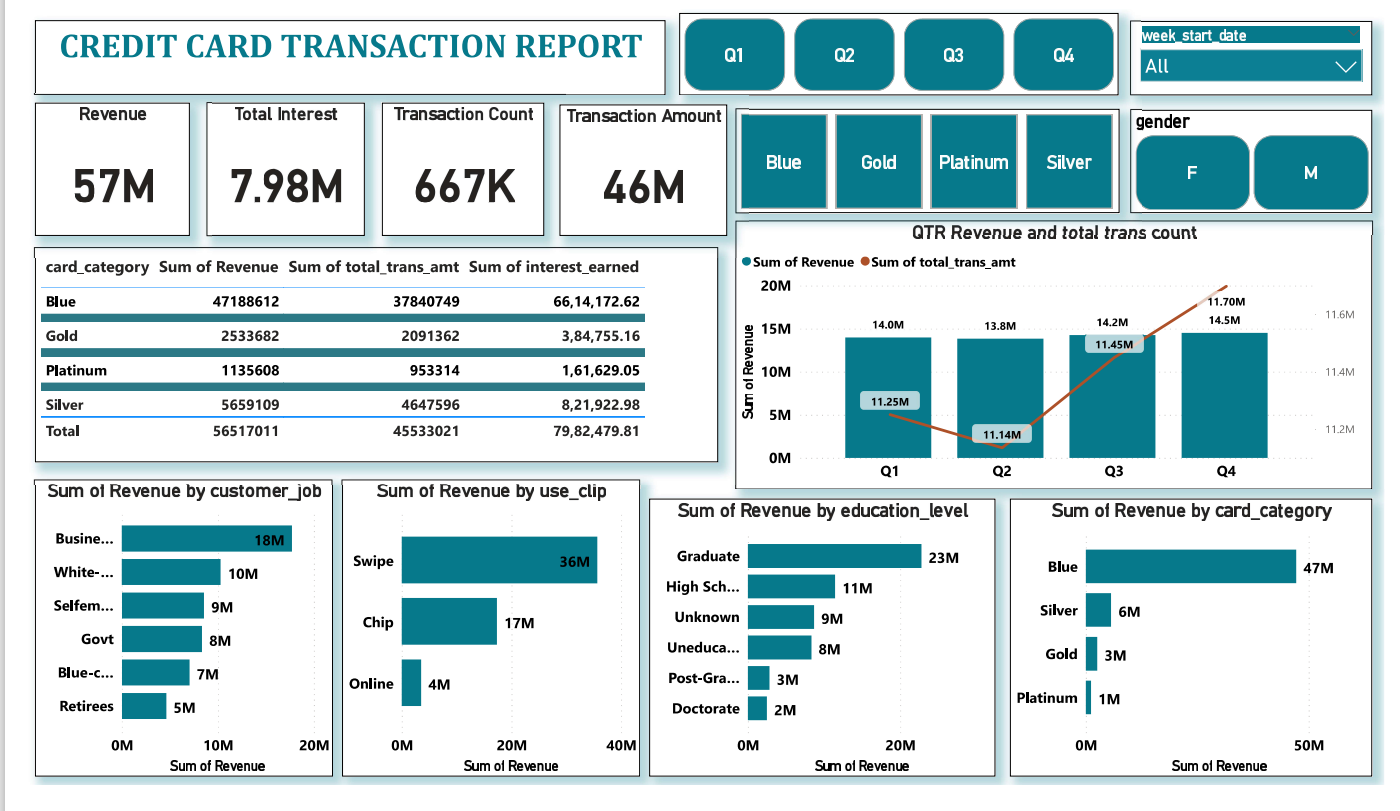

What the dashboard file says about the page in this screenshot:
{"tool":"powerbi","page":{"name":"credit card report","canvas":[1446,823],"ordinal":1},"visuals":[{"type":"textbox","box":[11,12.4,696.2,82.7],"z":0},{"type":"lineStackedColumnComboChart","title":"QTR Revenue and  total trans count","fields":{"Category":["public credit_detail.qtr"],"Y":["Sum(public credit_detail.Revenue)"],"Y2":["Sum(public credit_detail.total_trans_amt)"]},"box":[784.4,233,642.4,296.4],"z":1000},{"type":"barChart","fields":{"Category":["public cust_detail.customer_job"],"Y":["Sum(public credit_detail.Revenue)"]},"box":[11,518.3,329.5,288.1],"z":2000},{"type":"barChart","fields":{"Y":["Sum(public credit_detail.Revenue)"],"Category":["public credit_detail.use_clip"]},"box":[350.2,518.3,329.5,304.7],"z":3000},{"type":"tableEx","fields":{"Values":["public credit_detail.card_category","Sum(public credit_detail.Revenue)","Sum(public credit_detail.total_trans_amt)","Sum(public credit_detail.interest_earned)"]},"box":[11,261.9,754.1,238.5],"z":4000},{"type":"barChart","fields":{"Category":["public cust_detail.education_level"],"Y":["Sum(public credit_detail.Revenue)"]},"box":[689.3,540.4,350.2,282.6],"z":5000},{"type":"slicer","fields":{"Values":["public credit_detail.week_start_date"]},"box":[1191.1,12.4,245.4,97.9],"z":6000},{"type":"advancedSlicerVisual","fields":{"Values":["public credit_detail.qtr"]},"box":[722.4,4.1,461.8,91],"z":7000},{"type":"advancedSlicerVisual","fields":{"Values":["public cust_detail.gender"]},"box":[1218.6,121.3,208.2,103.4],"z":8000},{"type":"barChart","fields":{"Category":["public credit_detail.exp_type"],"Y":["Sum(public credit_detail.Revenue)"]},"box":[1054.6,540.4,381.9,282.6],"z":9000},{"type":"advancedSlicerVisual","fields":{"Values":["public credit_detail.card_category"]},"box":[784.4,110.3,423.2,114.4],"z":10000},{"type":"card","title":"Total Interest ","fields":{"Values":["Sum(public credit_detail.interest_earned)"]},"box":[199.9,103.4,175.1,146.1],"z":11000},{"type":"card","title":"Transaction Count","fields":{"Values":["Sum(public credit_detail.total_trans_ct)"]},"box":[394.3,103.4,179.2,146.1],"z":12000},{"type":"card","title":"Transaction Amount","fields":{"Values":["Sum(public credit_detail.total_trans_amt)"]},"box":[590,104.8,184.7,144.7],"z":13000},{"type":"card","title":"Revenue","fields":{"Values":["Sum(public credit_detail.Revenue)"]},"box":[11,103.4,170.9,146.1],"z":14000}]}

Visuals, with their boxes in screenshot pixels (x1, y1, x2, y2), scaled from the page's 1446x823 canvas onto the 1400x811 screenshot:
textbox: (x1=11, y1=12, x2=685, y2=94)
"QTR Revenue and  total trans count" lineStackedColumnComboChart: (x1=759, y1=230, x2=1381, y2=522)
barChart - public cust_detail.customer_job x Sum(public credit_detail.Revenue): (x1=11, y1=511, x2=330, y2=795)
barChart - Sum(public credit_detail.Revenue) x public credit_detail.use_clip: (x1=339, y1=511, x2=658, y2=810)
tableEx - public credit_detail.card_category x Sum(public credit_detail.Revenue): (x1=11, y1=258, x2=741, y2=493)
barChart - public cust_detail.education_level x Sum(public credit_detail.Revenue): (x1=667, y1=533, x2=1006, y2=810)
slicer - public credit_detail.week_start_date: (x1=1153, y1=12, x2=1391, y2=109)
advancedSlicerVisual - public credit_detail.qtr: (x1=699, y1=4, x2=1147, y2=94)
advancedSlicerVisual - public cust_detail.gender: (x1=1180, y1=120, x2=1381, y2=221)
barChart - public credit_detail.exp_type x Sum(public credit_detail.Revenue): (x1=1021, y1=533, x2=1391, y2=810)
advancedSlicerVisual - public credit_detail.card_category: (x1=759, y1=109, x2=1169, y2=221)
"Total Interest " card: (x1=194, y1=102, x2=363, y2=246)
"Transaction Count" card: (x1=382, y1=102, x2=555, y2=246)
"Transaction Amount" card: (x1=571, y1=103, x2=750, y2=246)
"Revenue" card: (x1=11, y1=102, x2=176, y2=246)
